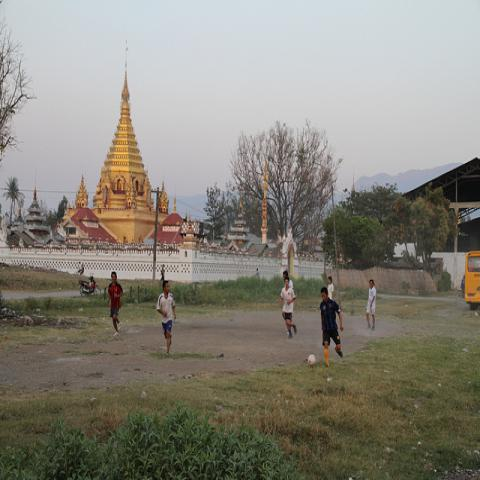bus: (465, 250, 479, 312)
motorcycle: (79, 273, 101, 297)
